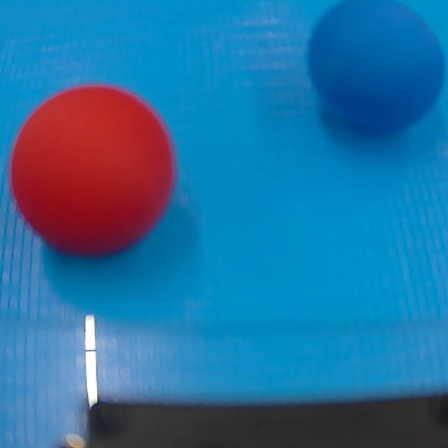blue: (303, 2, 438, 146)
blue_aim: (3, 4, 448, 448)
red: (10, 75, 180, 265)
